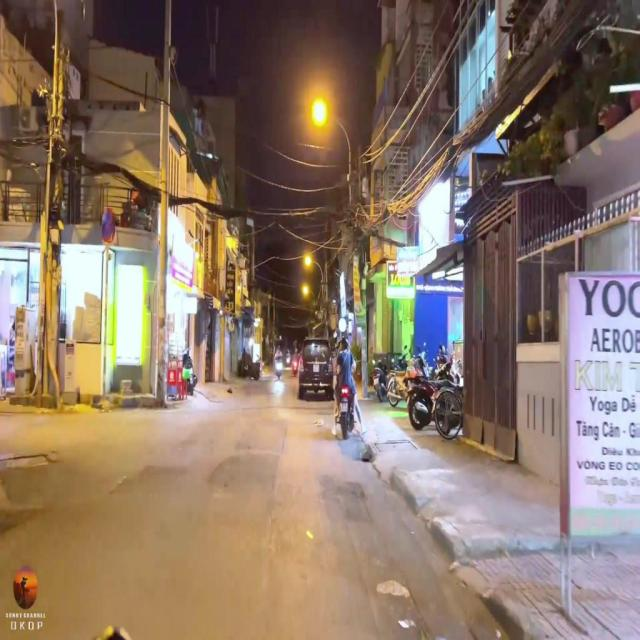cam_dung_xe_va_do_xe: (102, 208, 115, 242)
